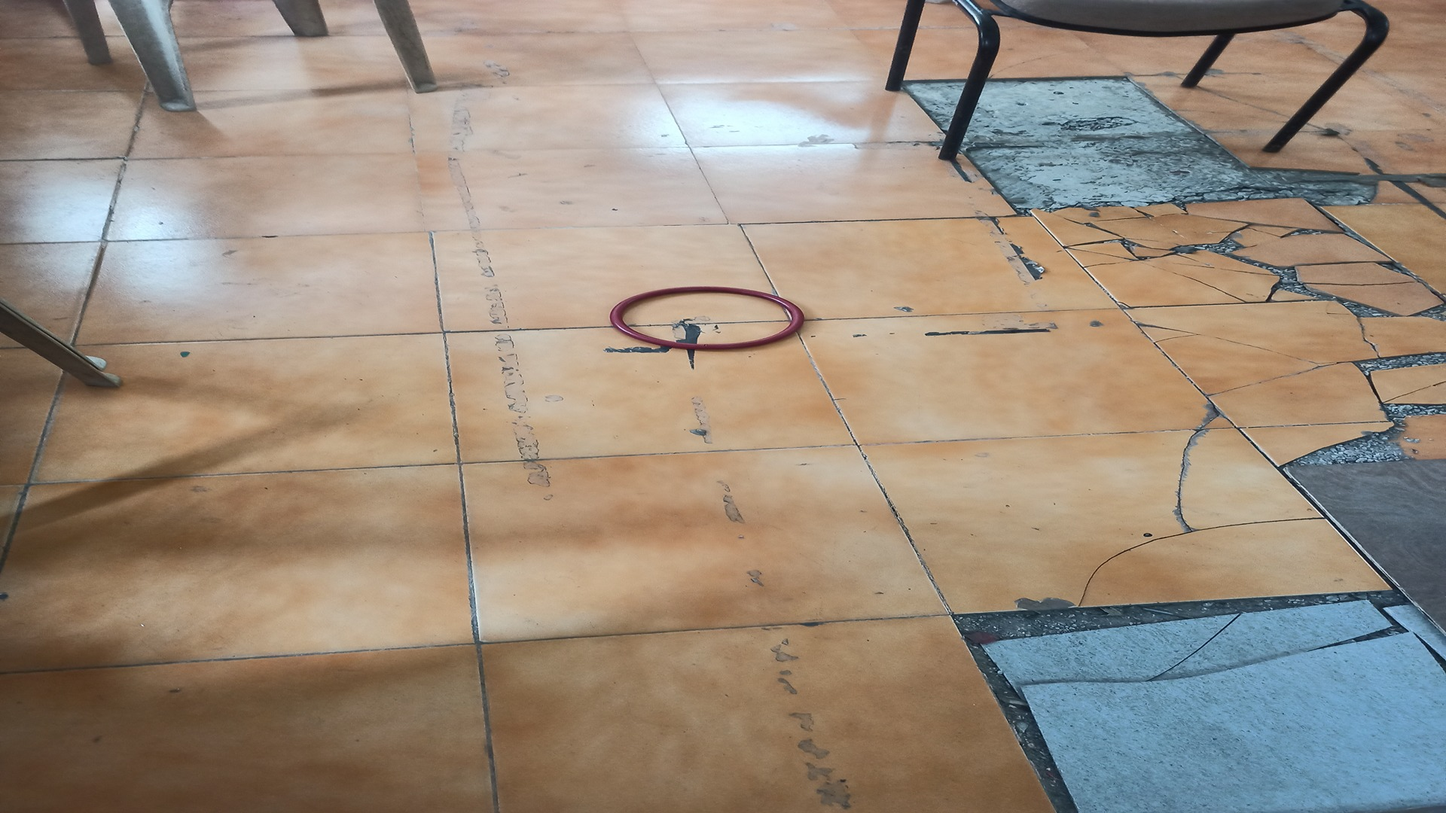Red ring: (612, 284, 810, 350)
